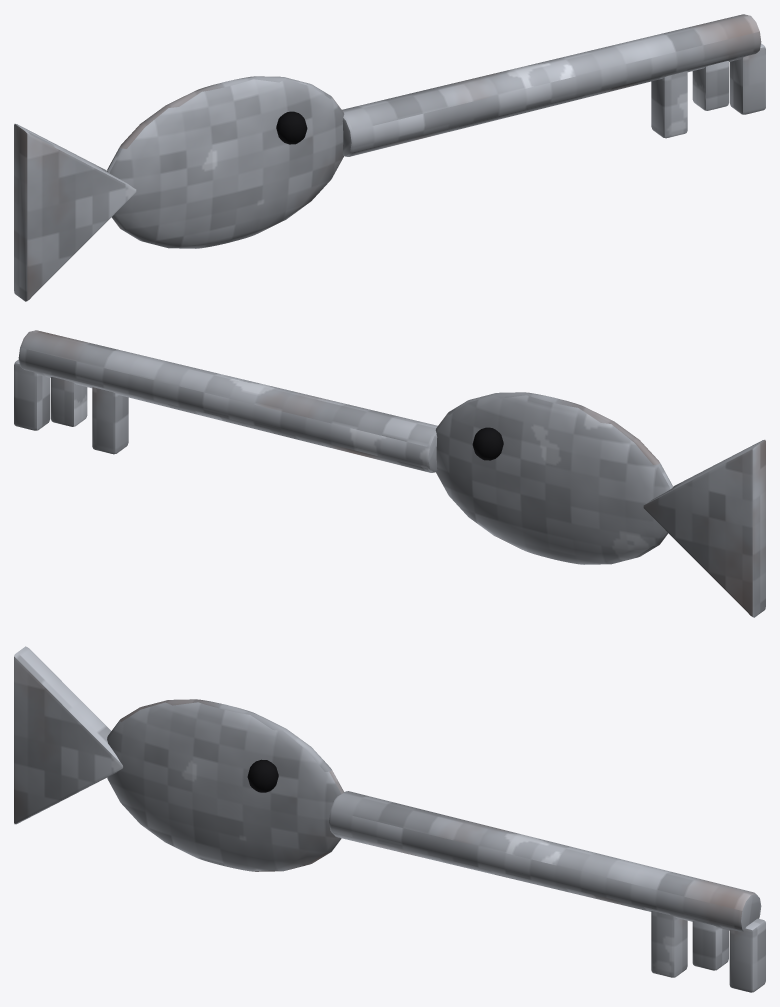
File: prop_key_silver.glb
The picture shows the model from 3 angles, top to bottom: view 1: azimuth 30°, elevation 25°; view 2: azimuth 150°, elevation 25°; view 3: azimuth 330°, elevation 25°; orthographic projection.
Visible parts, largest first — view 1: prop_key_silver; view 2: prop_key_silver; view 3: prop_key_silver.
Boxes of the visible parts, x1=… form: prop_key_silver: x1=14, y1=14, x2=765, y2=301; prop_key_silver: x1=14, y1=330, x2=765, y2=617; prop_key_silver: x1=14, y1=646, x2=765, y2=992.
Size of the model in its own units: 0.359 by 0.0788 by 0.0373.
2 materials, 2 textured.
